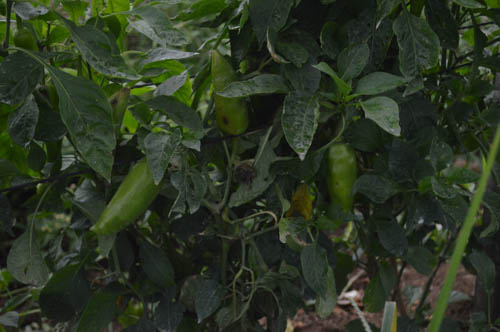ChiliPepper: (82, 157, 167, 235), (205, 48, 252, 138), (320, 138, 361, 212)
